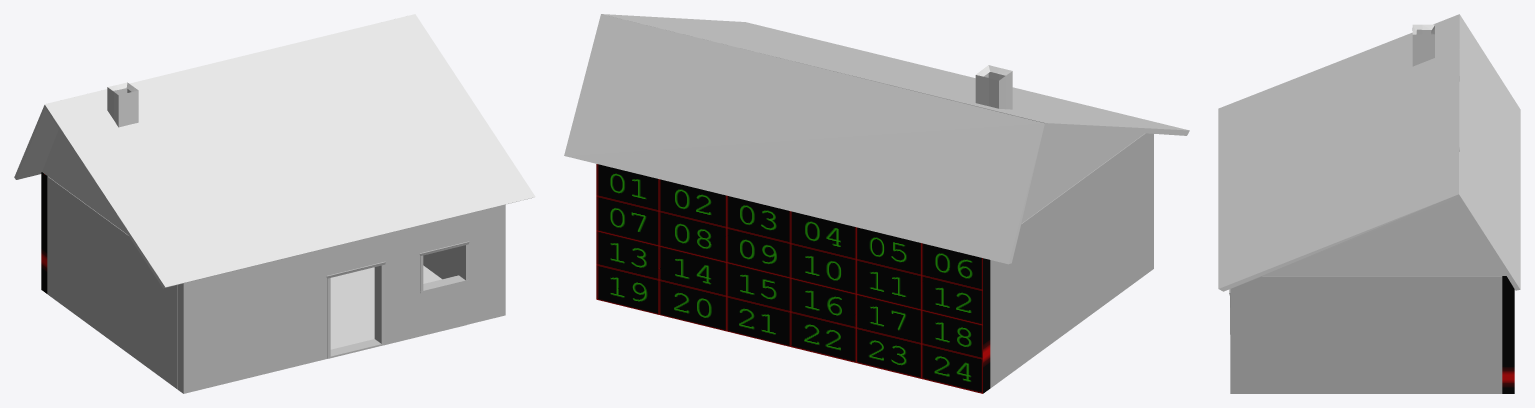
Rendered from house2.dae.
3 renders of one model, left to right at view 1: azimuth 30°, elevation 25°; view 2: azimuth 150°, elevation 25°; view 3: azimuth 270°, elevation 25°, orthographic. The views are drawn at different scales.
Parts seen in each view (by area): view 1: roof_right, wall_right_near, wall_near, wall_right_far_up, floor, wall_right_far_down_far, wall_right_far_down_near, roof_near, wall_right_far_down_down, roof_left, chimney, wall_far (+3 smaller); view 2: roof_left, wall_left, wall_near, roof_right, roof_near, chimney, wall_right_near; view 3: roof_right, wall_far, roof_left, roof_far, wall_left, wall_right_far_down_far, chimney, wall_right_far_up.
Boxes of the visible parts, x1=… form: roof_right: x1=44, y1=14, x2=535, y2=288; wall_right_near: x1=177, y1=248, x2=328, y2=393; wall_near: x1=47, y1=176, x2=177, y2=389; wall_right_far_up: x1=328, y1=204, x2=505, y2=275; floor: x1=330, y1=265, x2=441, y2=349; wall_right_far_down_far: x1=467, y1=234, x2=505, y2=324; wall_right_far_down_near: x1=384, y1=255, x2=421, y2=345; roof_near: x1=42, y1=129, x2=127, y2=234; wall_right_far_down_down: x1=422, y1=282, x2=466, y2=335; roof_left: x1=14, y1=105, x2=58, y2=179; chimney: x1=107, y1=82, x2=138, y2=127; wall_far: x1=423, y1=247, x2=458, y2=279; roof_left: x1=564, y1=14, x2=1045, y2=264; wall_left: x1=596, y1=164, x2=990, y2=393; wall_near: x1=990, y1=133, x2=1146, y2=388; roof_right: x1=601, y1=14, x2=1189, y2=135; roof_near: x1=1021, y1=126, x2=1144, y2=223; chimney: x1=975, y1=65, x2=1012, y2=109; wall_right_near: x1=1146, y1=133, x2=1153, y2=273; roof_right: x1=1218, y1=14, x2=1459, y2=291; wall_far: x1=1242, y1=276, x2=1502, y2=393; roof_left: x1=1459, y1=14, x2=1520, y2=290; roof_far: x1=1263, y1=197, x2=1506, y2=275; wall_left: x1=1502, y1=276, x2=1514, y2=393; wall_right_far_down_far: x1=1230, y1=313, x2=1243, y2=393; chimney: x1=1412, y1=24, x2=1434, y2=66; wall_right_far_up: x1=1230, y1=284, x2=1242, y2=312.
Bounding box in the file's own units: 2.3 × 1.63 × 1.34.
